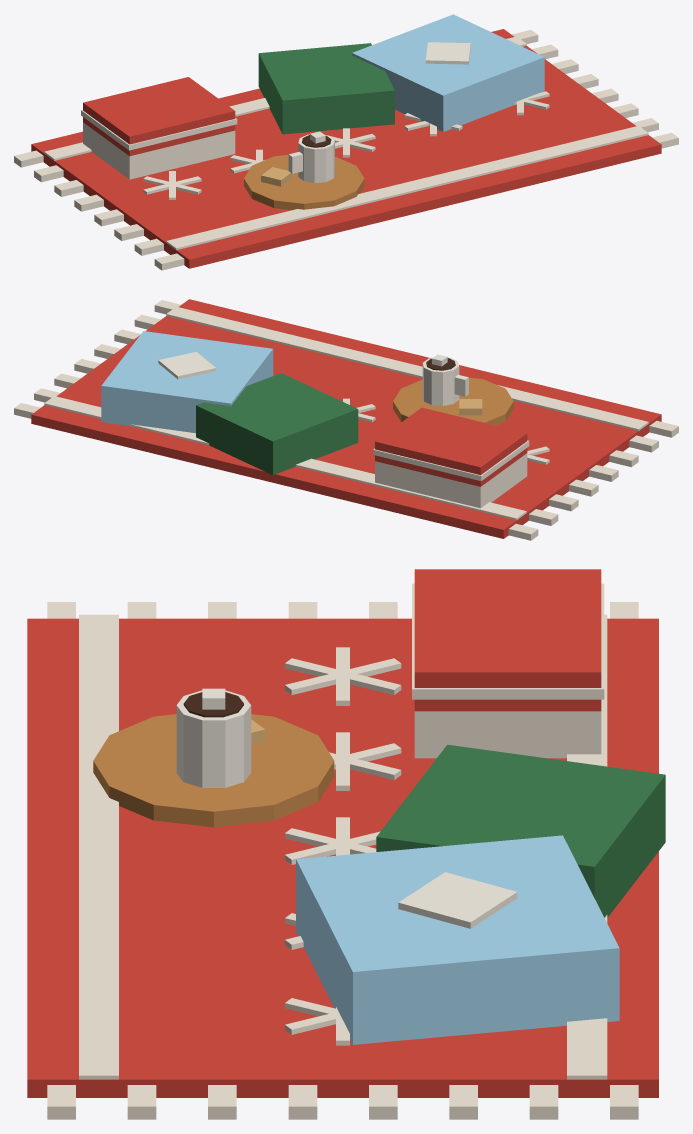
File: CatCafe_Decor_FiresideRug.glb
3 renders of one model, top to bottom at view 1: azimuth 30°, elevation 25°; view 2: azimuth 150°, elevation 25°; view 3: azimuth 270°, elevation 25°, orthographic. The views are drawn at different scales.
Visible parts, largest first — view 1: CatCafe_Decor_FiresideRug; view 2: CatCafe_Decor_FiresideRug; view 3: CatCafe_Decor_FiresideRug.
Boxes of the visible parts, box(x1,y1,x2,y2) form: CatCafe_Decor_FiresideRug: box(14, 14, 678, 270); CatCafe_Decor_FiresideRug: box(14, 299, 678, 540); CatCafe_Decor_FiresideRug: box(27, 569, 665, 1119).
Size of the model in its own units: 4.16 by 0.44 by 2.22.
1 material, 1 textured.
